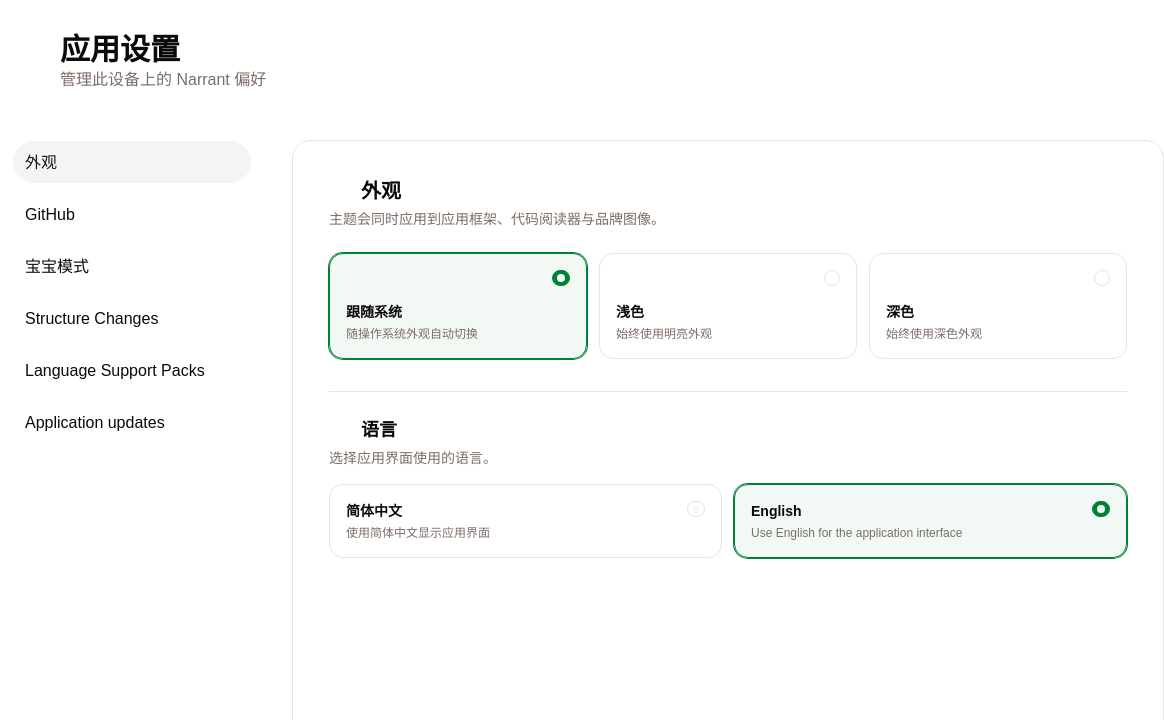
Test: Application Language UI › language persistence failure restores the previous i18n and document language
The width and height of the screenshot is (1164, 720).
Expected: the 5th radio button named "English" is shown, [1092, 501, 1110, 517]
Click the 4th radio button named "简体中文": coordinates (696, 509) [687, 501, 705, 517]
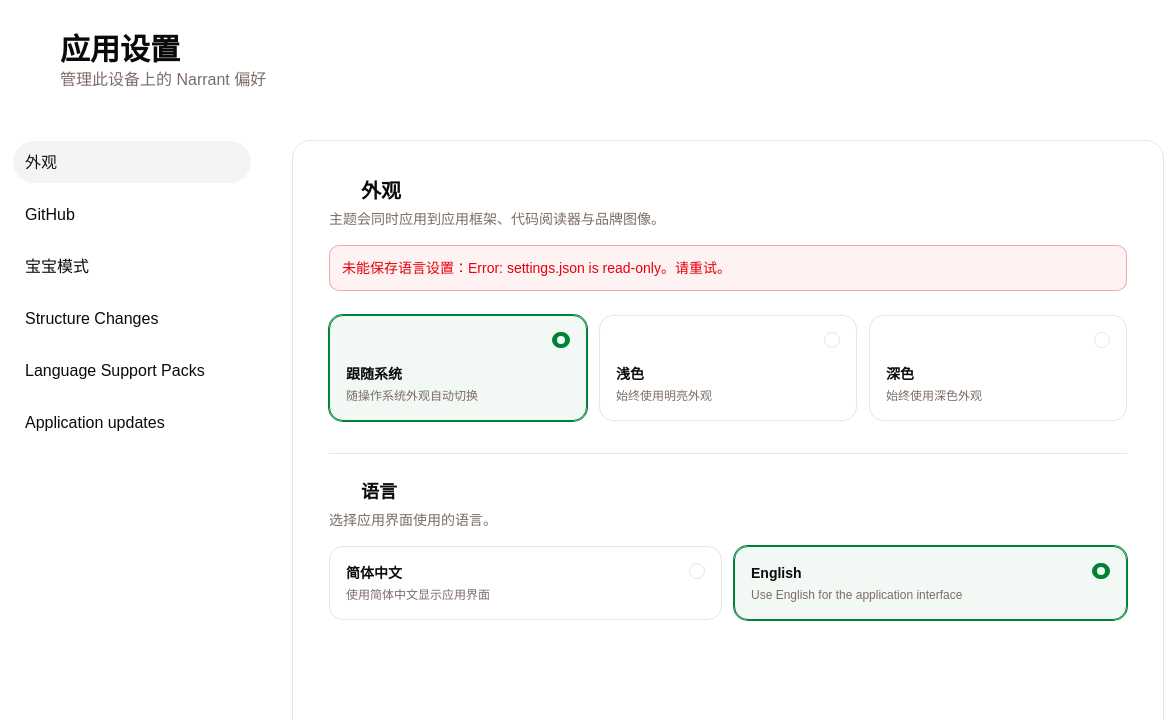
Expected: the message shows "settings.json is read-only", [342, 260, 731, 276]
